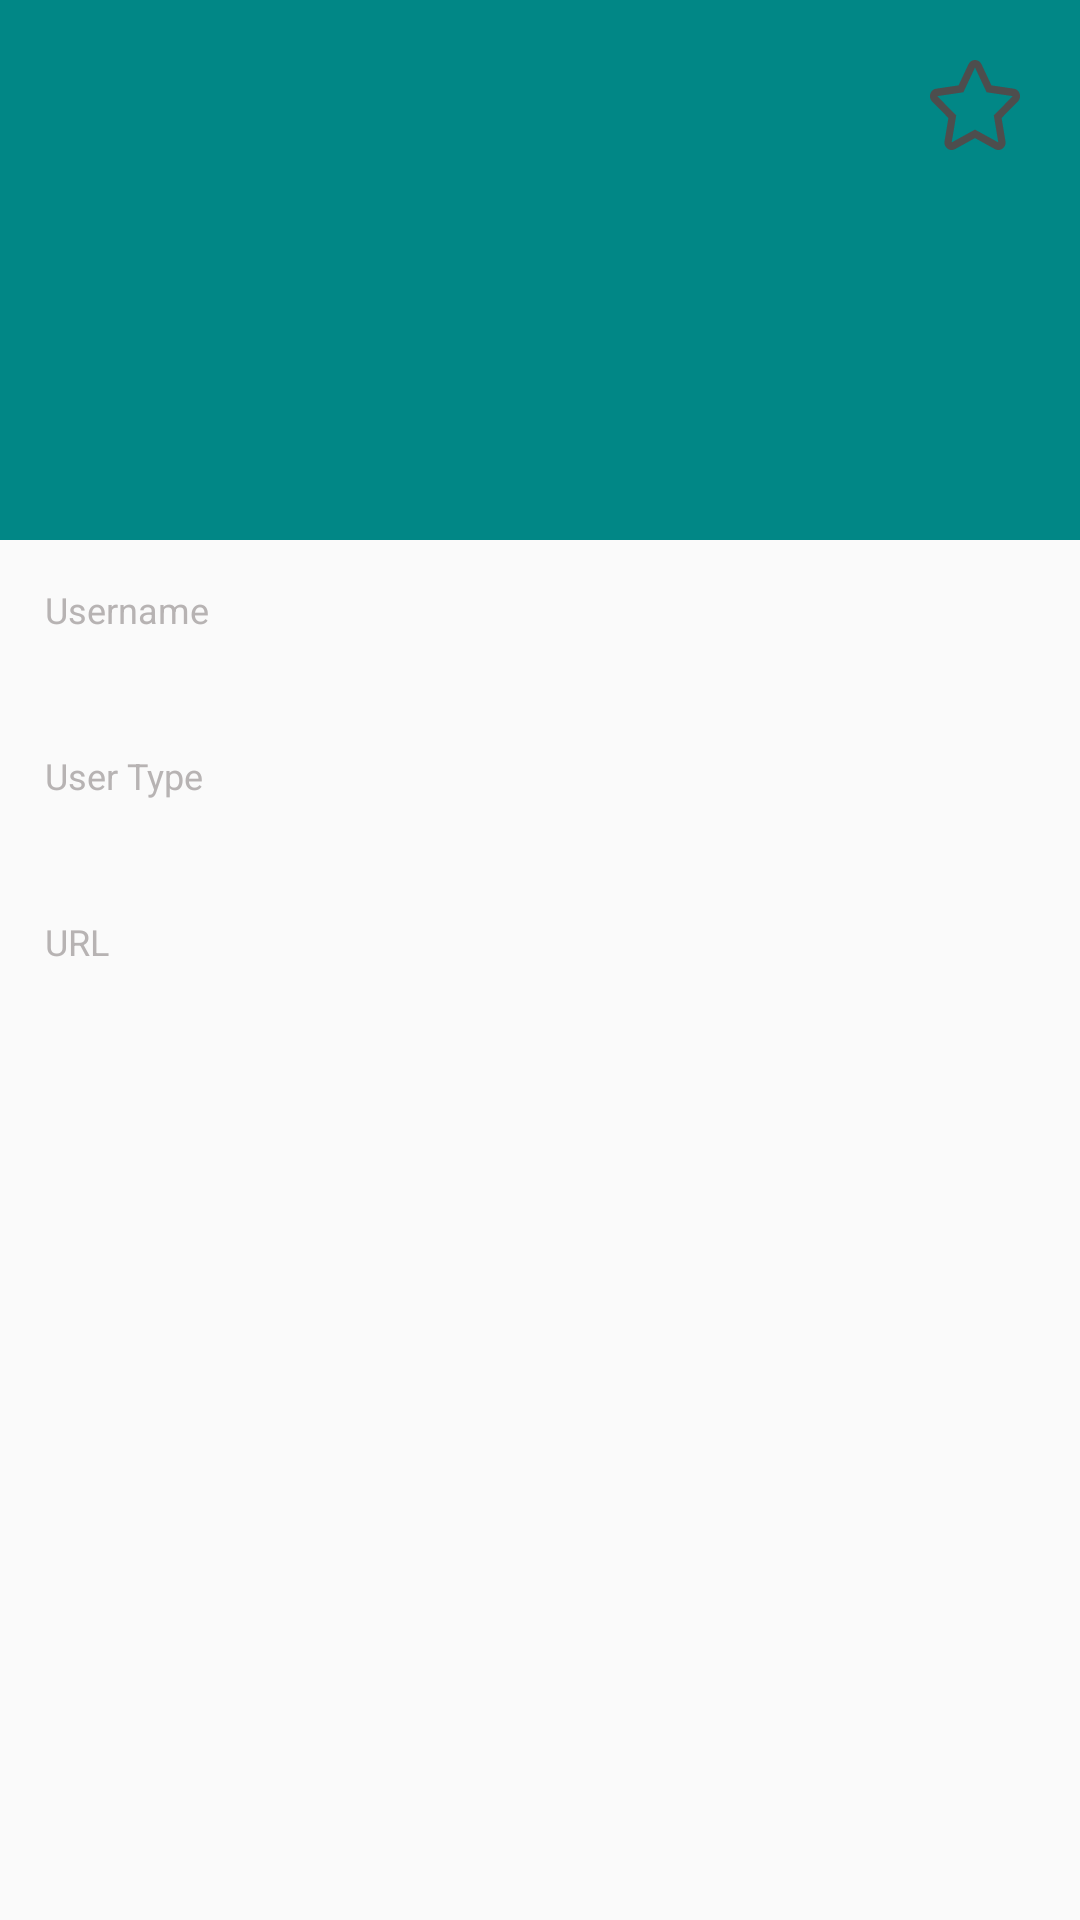

Screen size 1080×1920. Icon name, then its box in pixels as box(x1, y1, x2, y2):
favorite: box(930, 60, 1020, 150)
